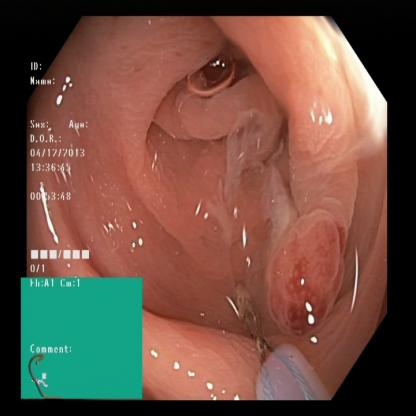Labels: (27, 54, 100, 276), (22, 277, 143, 399)
Polyps: (271, 208, 344, 335)
